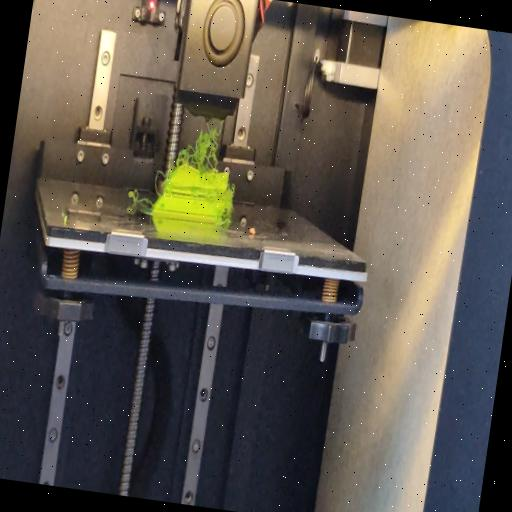spaghetti: (168, 114, 230, 174), (126, 188, 154, 212), (152, 166, 164, 194), (220, 214, 230, 229)
